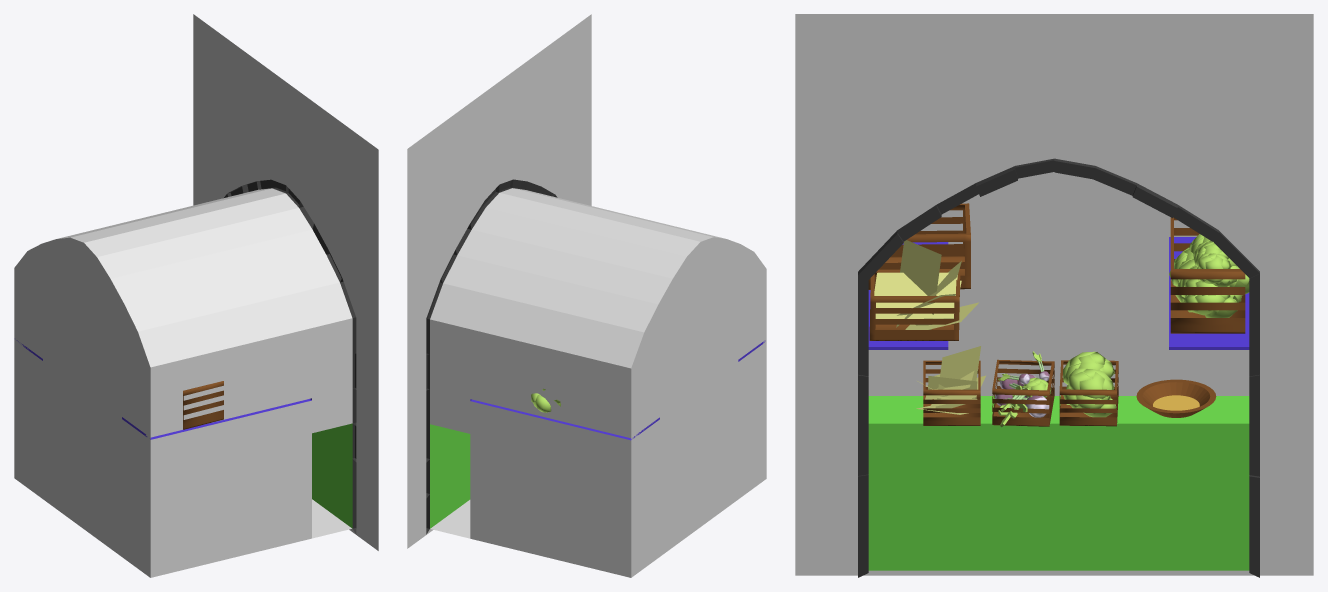
The model's file is Porte_Grande_Commerce_Assemblé.glb.
The picture shows the model from 3 angles, left to right: view 1: azimuth 30°, elevation 25°; view 2: azimuth 150°, elevation 25°; view 3: azimuth 270°, elevation 25°; orthographic projection. The views are drawn at different scales.
Parts seen in each view (by area): view 1: Plane; view 2: Plane; view 3: Plane.
Boxes of the visible parts, bbox=[...] form: Plane: bbox=[14, 14, 378, 577]; Plane: bbox=[407, 14, 766, 577]; Plane: bbox=[795, 14, 1313, 577].
Bounding box in the file's own units: 1.75 × 3.1 × 2.6.
11 materials, 1 textured.
